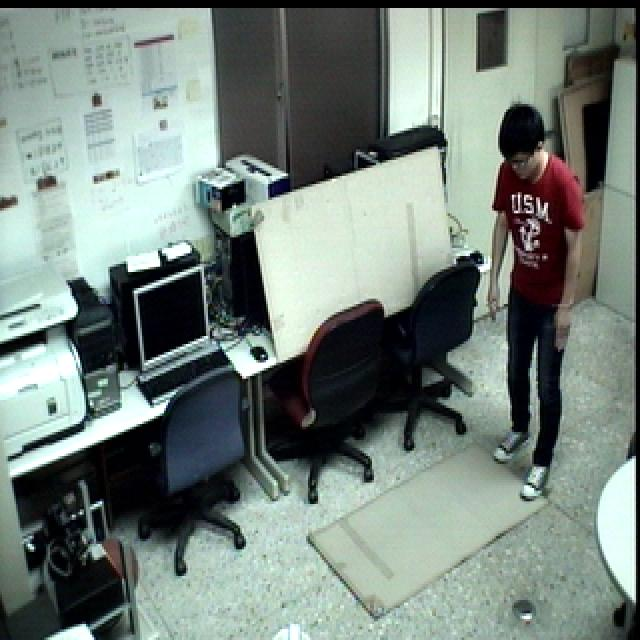stand: (470, 100, 597, 511)
